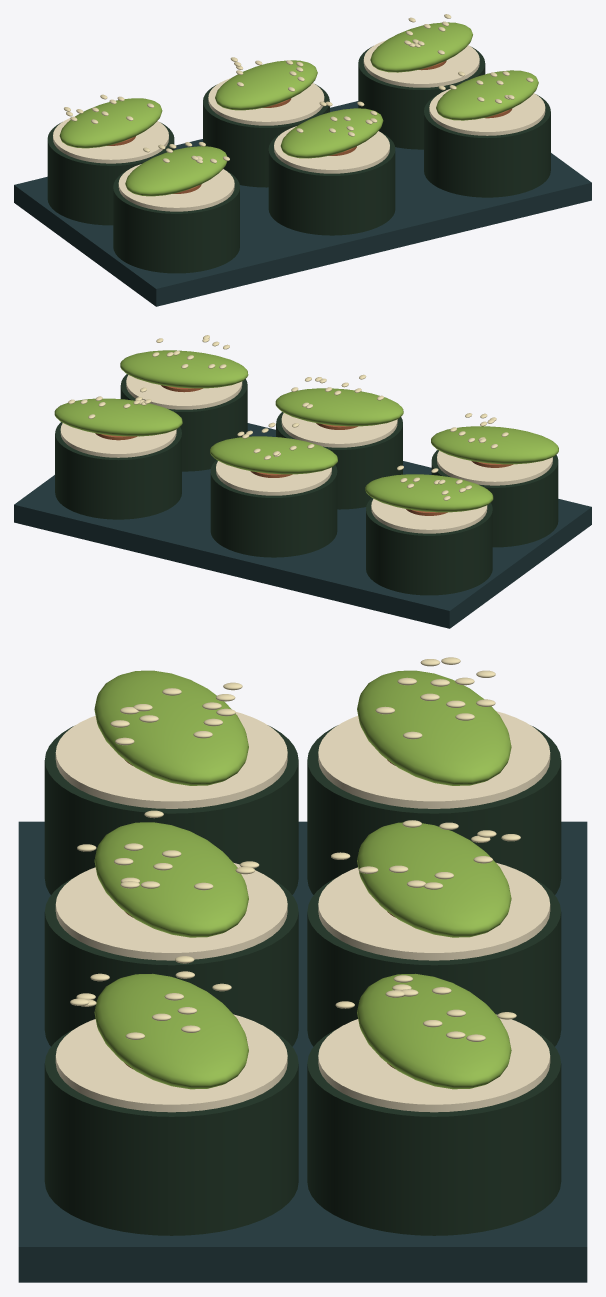
The model's file is sushi.glb.
3 views of the same model, one above another, from view 1: azimuth 30°, elevation 25°; view 2: azimuth 150°, elevation 25°; view 3: azimuth 270°, elevation 25° (orthographic). The views are drawn at different scales.
Visible parts, largest first — view 1: Stylized demo sushi; view 2: Stylized demo sushi; view 3: Stylized demo sushi.
Boxes of the visible parts, <box> form: Stylized demo sushi: <box>14,14,591,306</box>; Stylized demo sushi: <box>14,335,591,628</box>; Stylized demo sushi: <box>18,657,587,1282</box>.
Size of the model in its own units: 2.3 by 0.5566 by 1.3.
